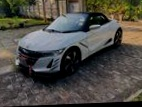car: (16, 10, 125, 78)
